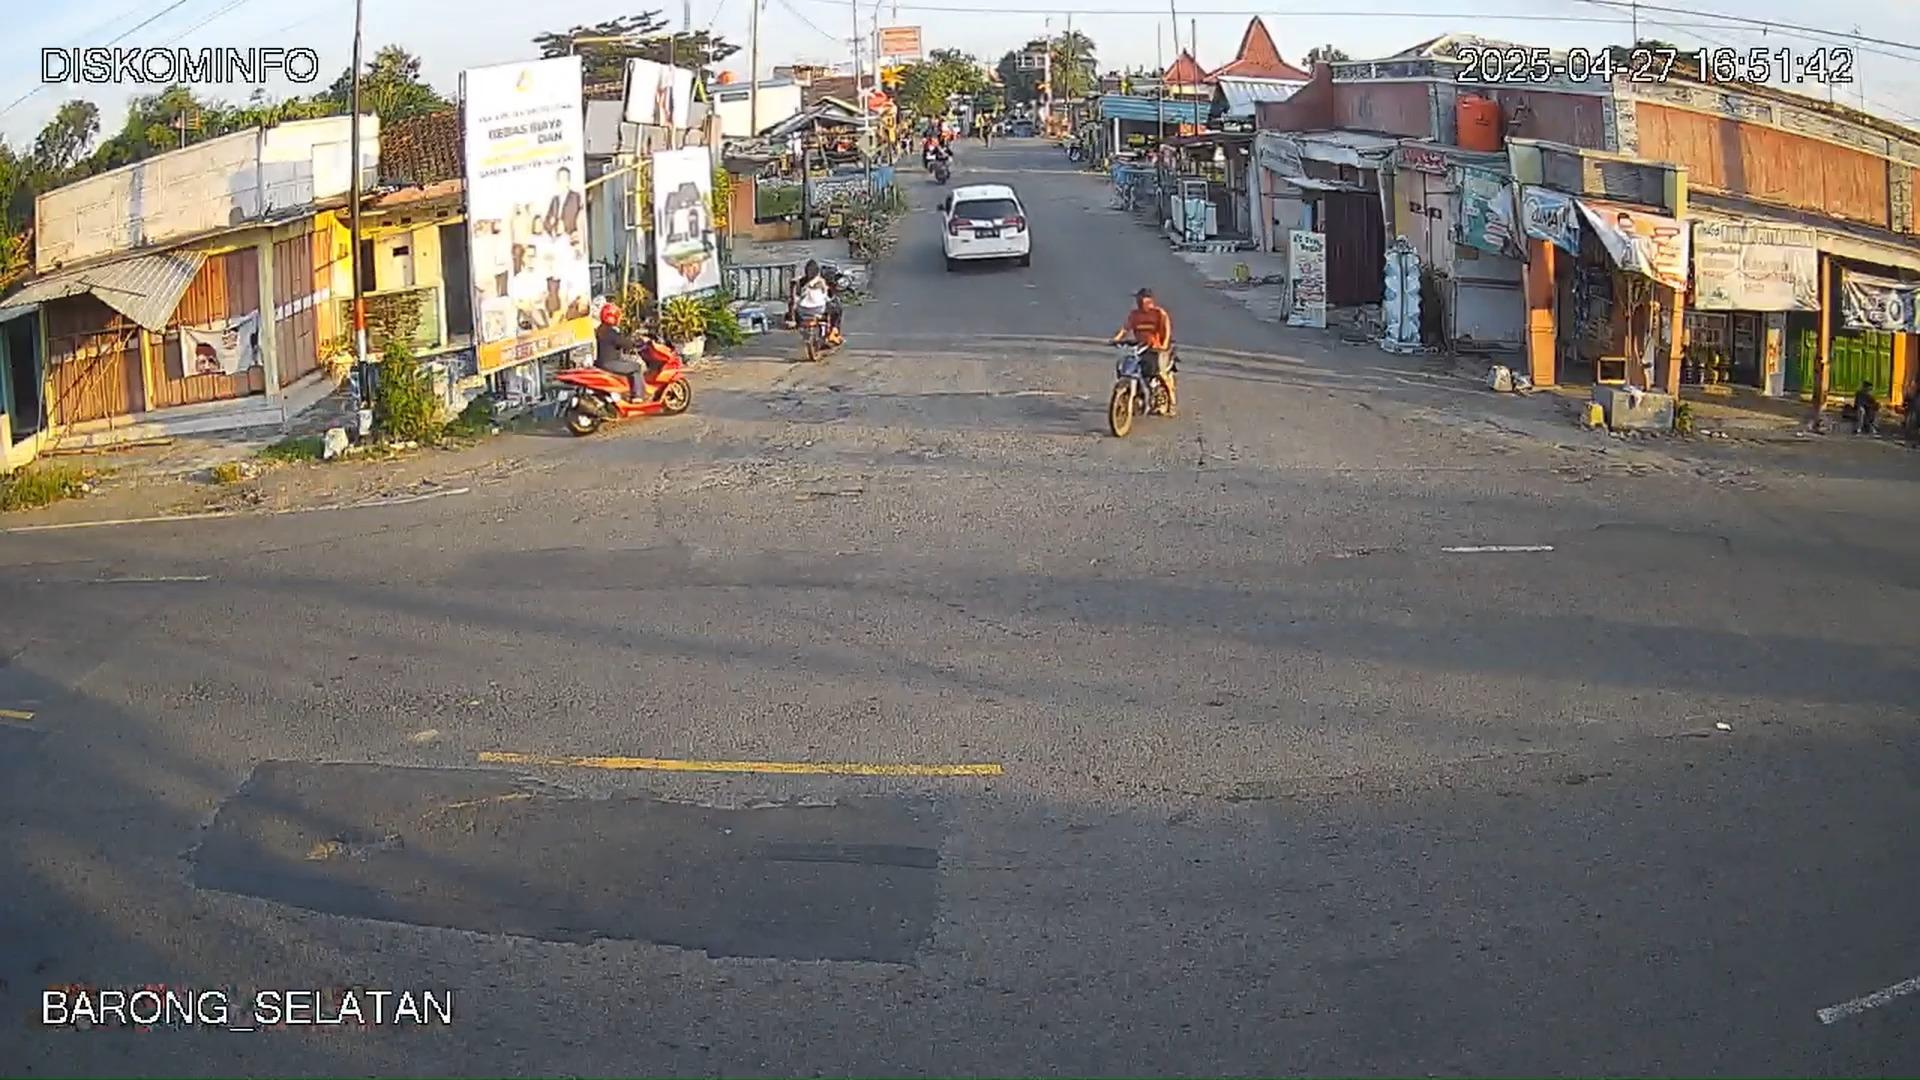Motor: (555, 302, 707, 451), (1110, 286, 1174, 414), (786, 273, 849, 361)
mobil: (935, 182, 1023, 273)
